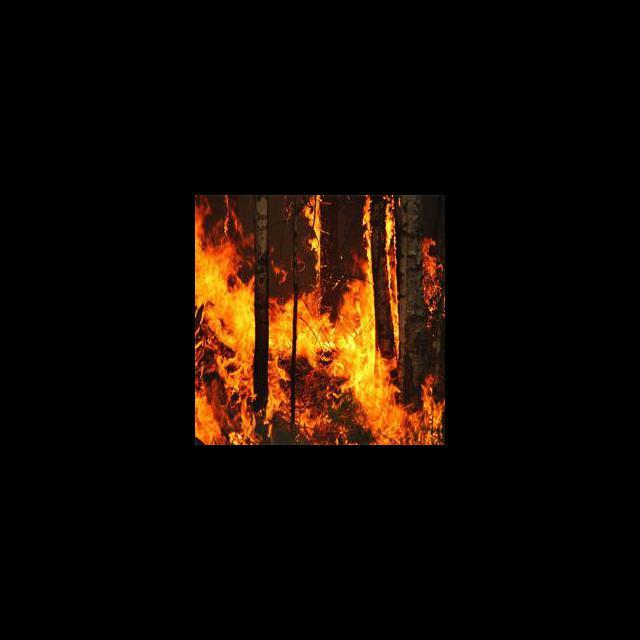Fire: (196, 196, 445, 444)
